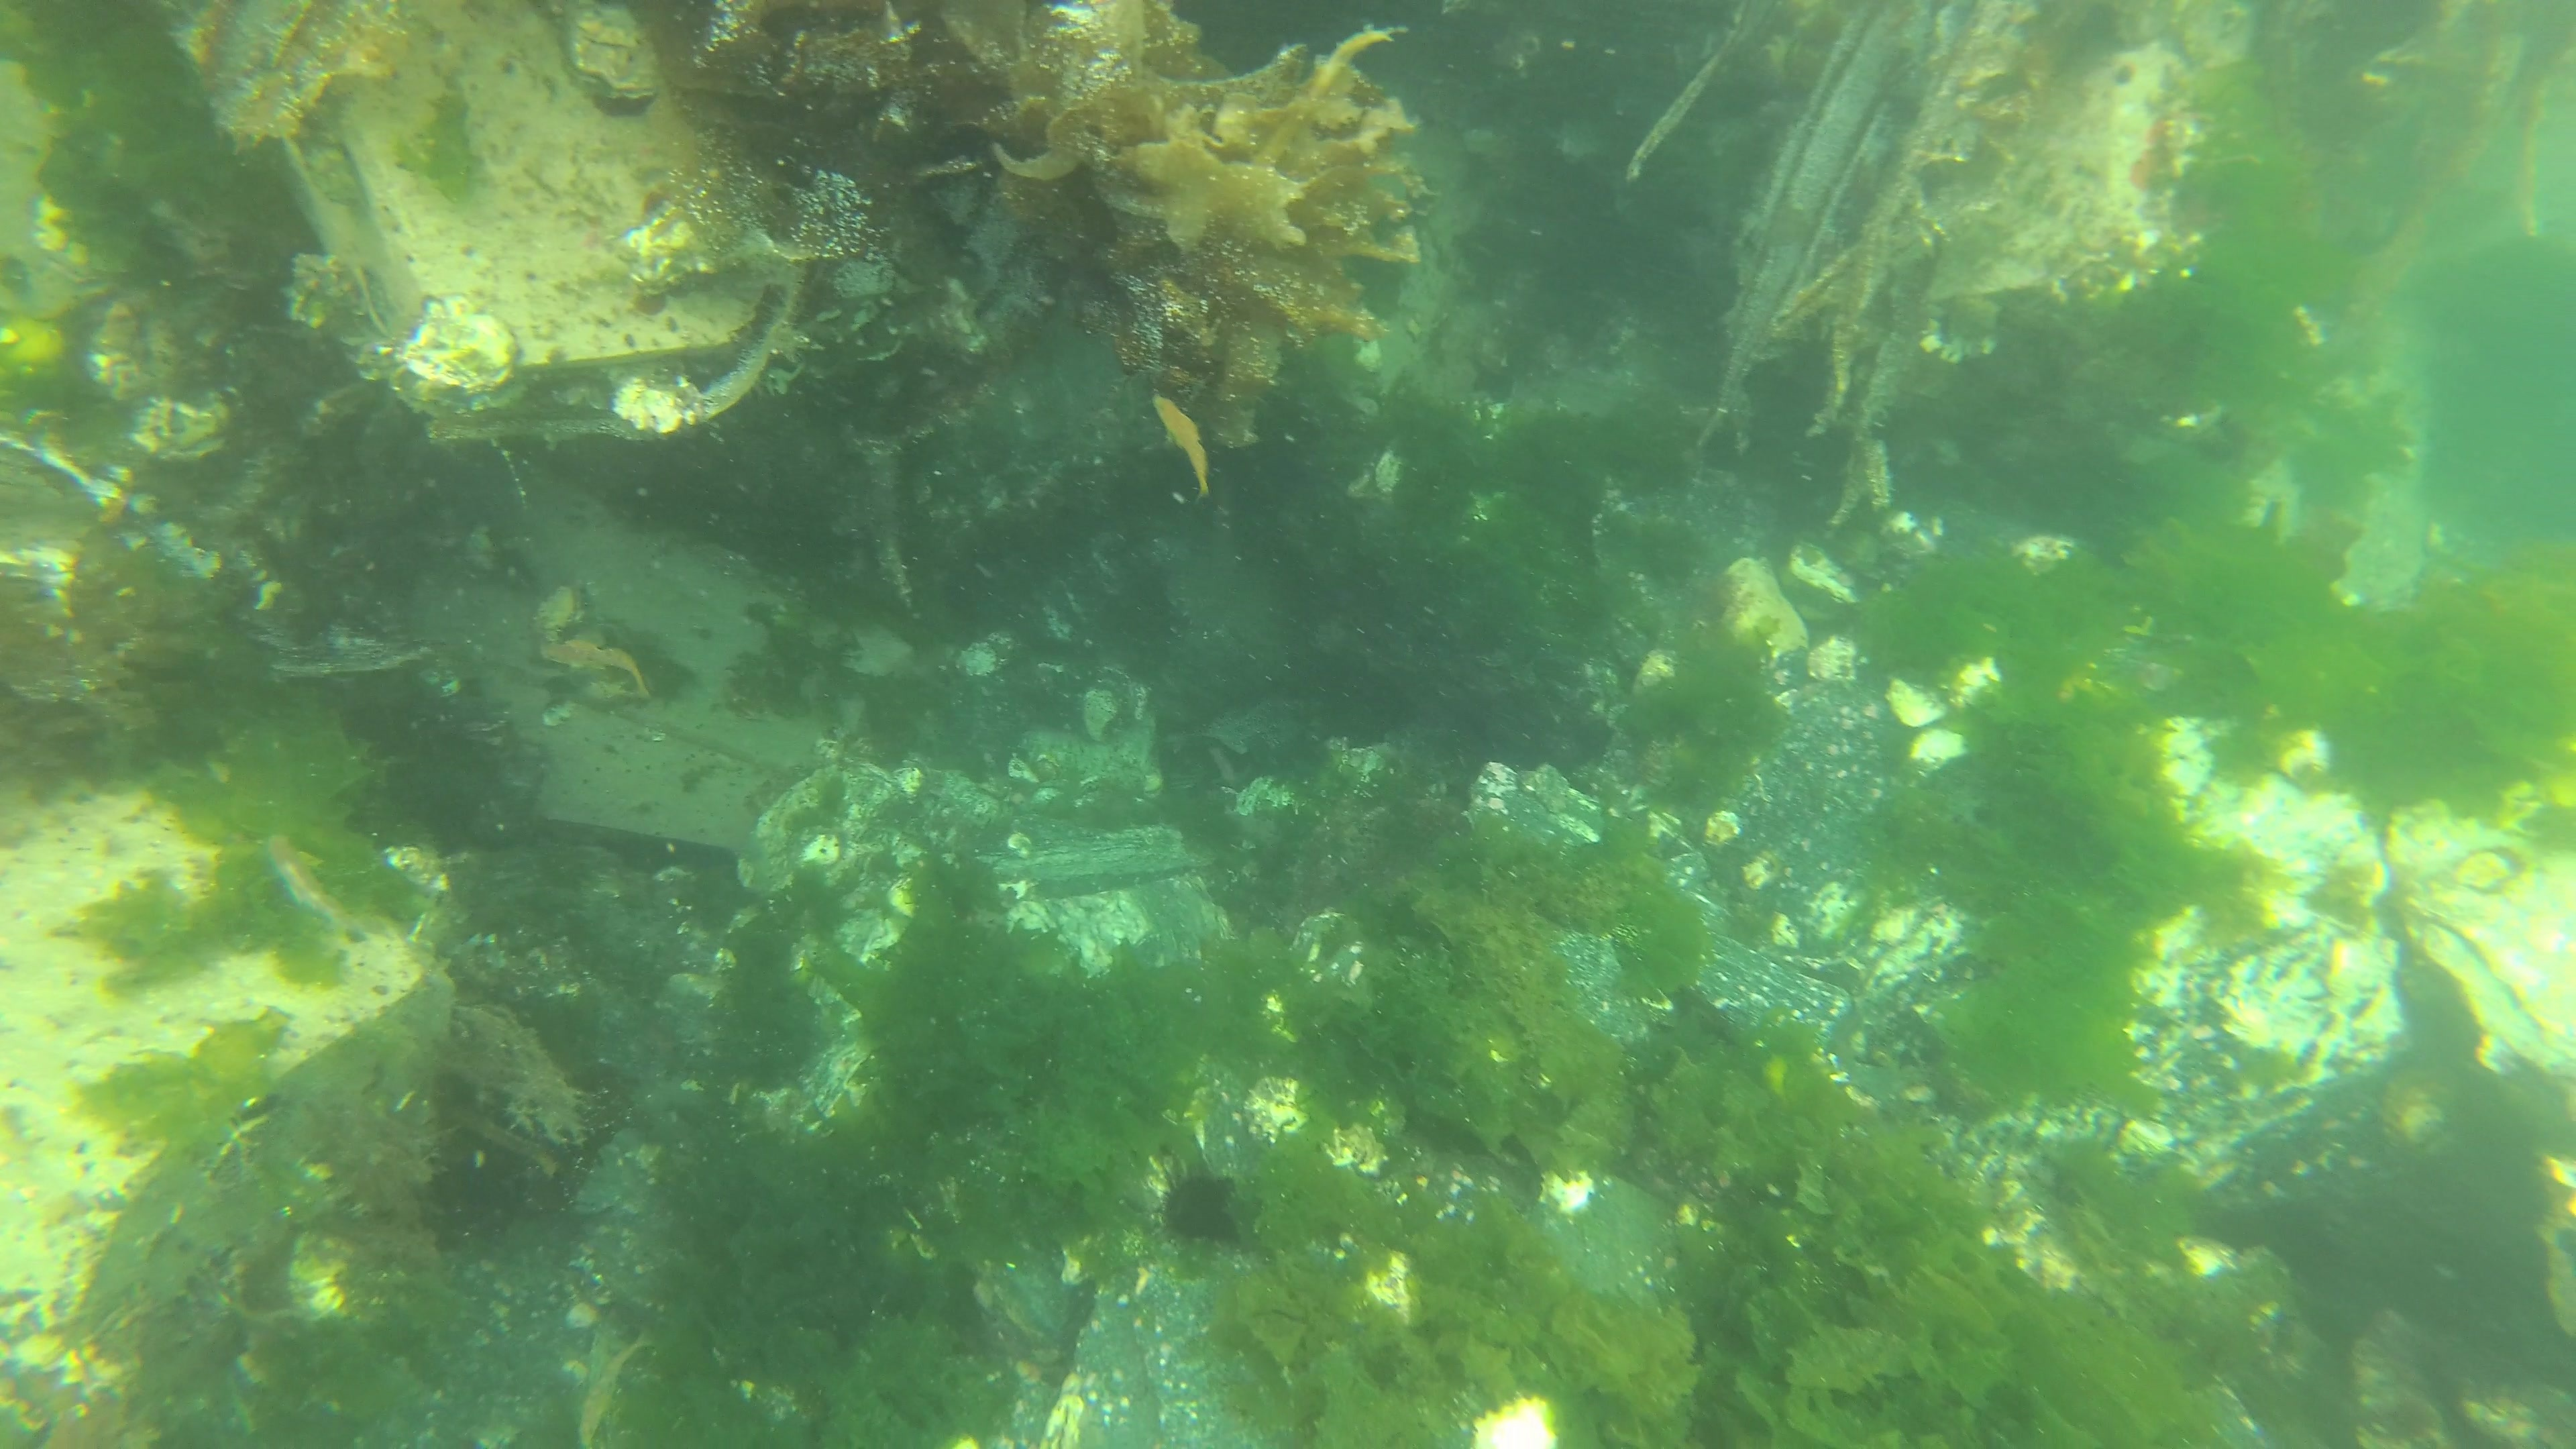echinus: (1162, 1166, 1240, 1244)
